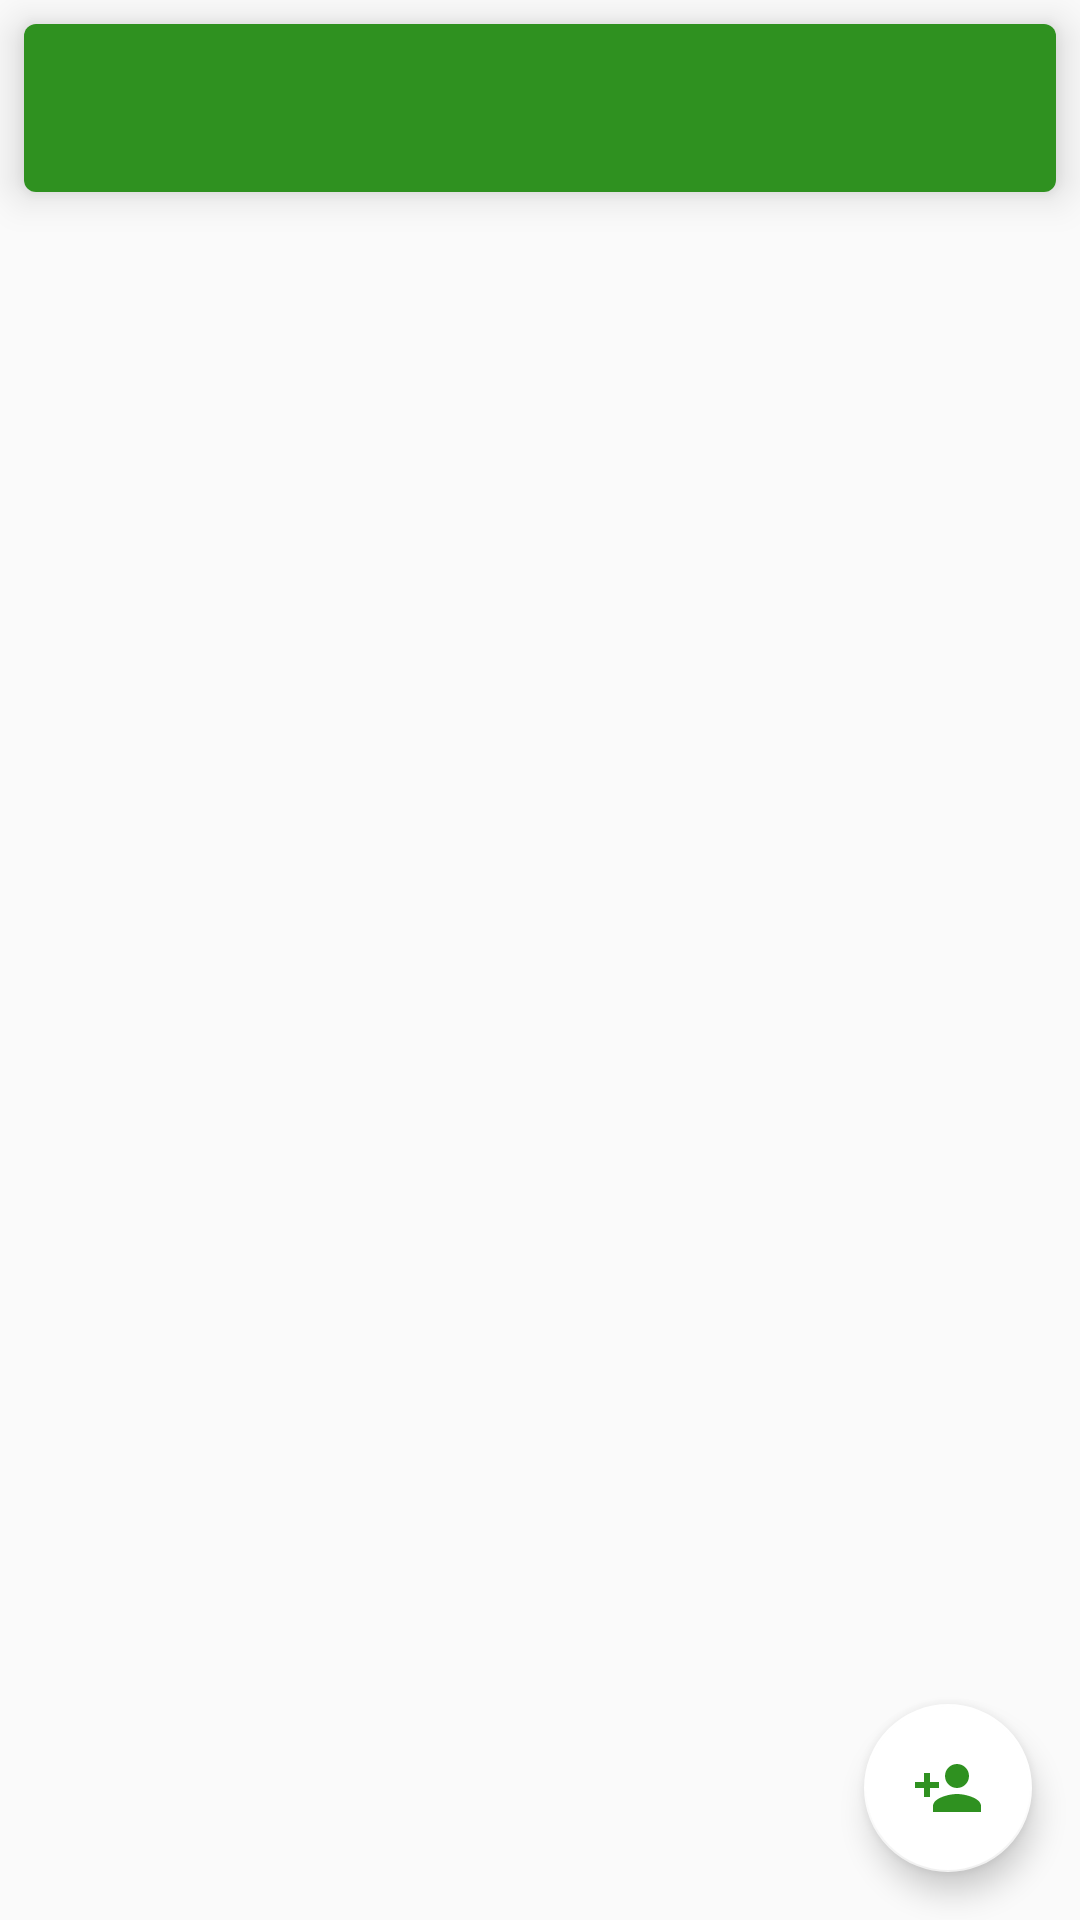

Where to tap for icons on this 1080w x 1920h app screen, as (x=x, y=y):
person add: (x=948, y=1788)
